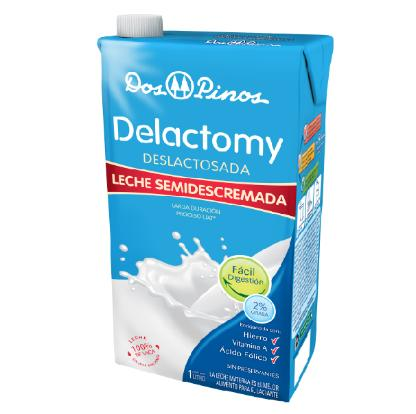Others: (90, 10, 334, 406)
